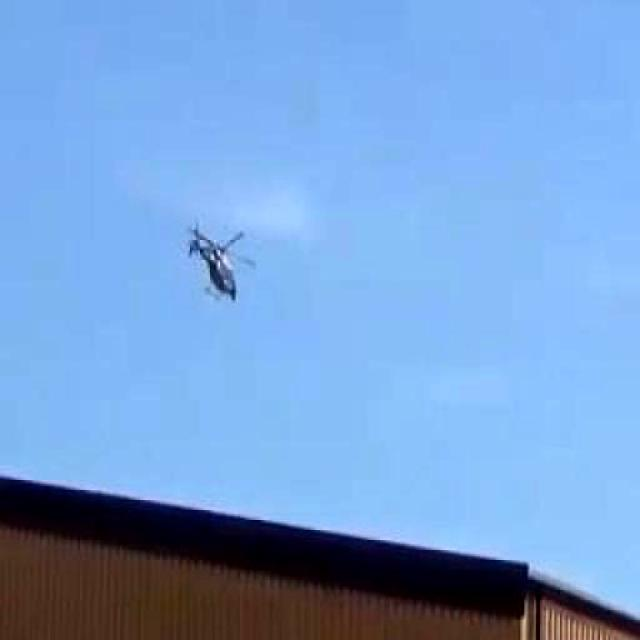drone: (145, 180, 259, 344)
